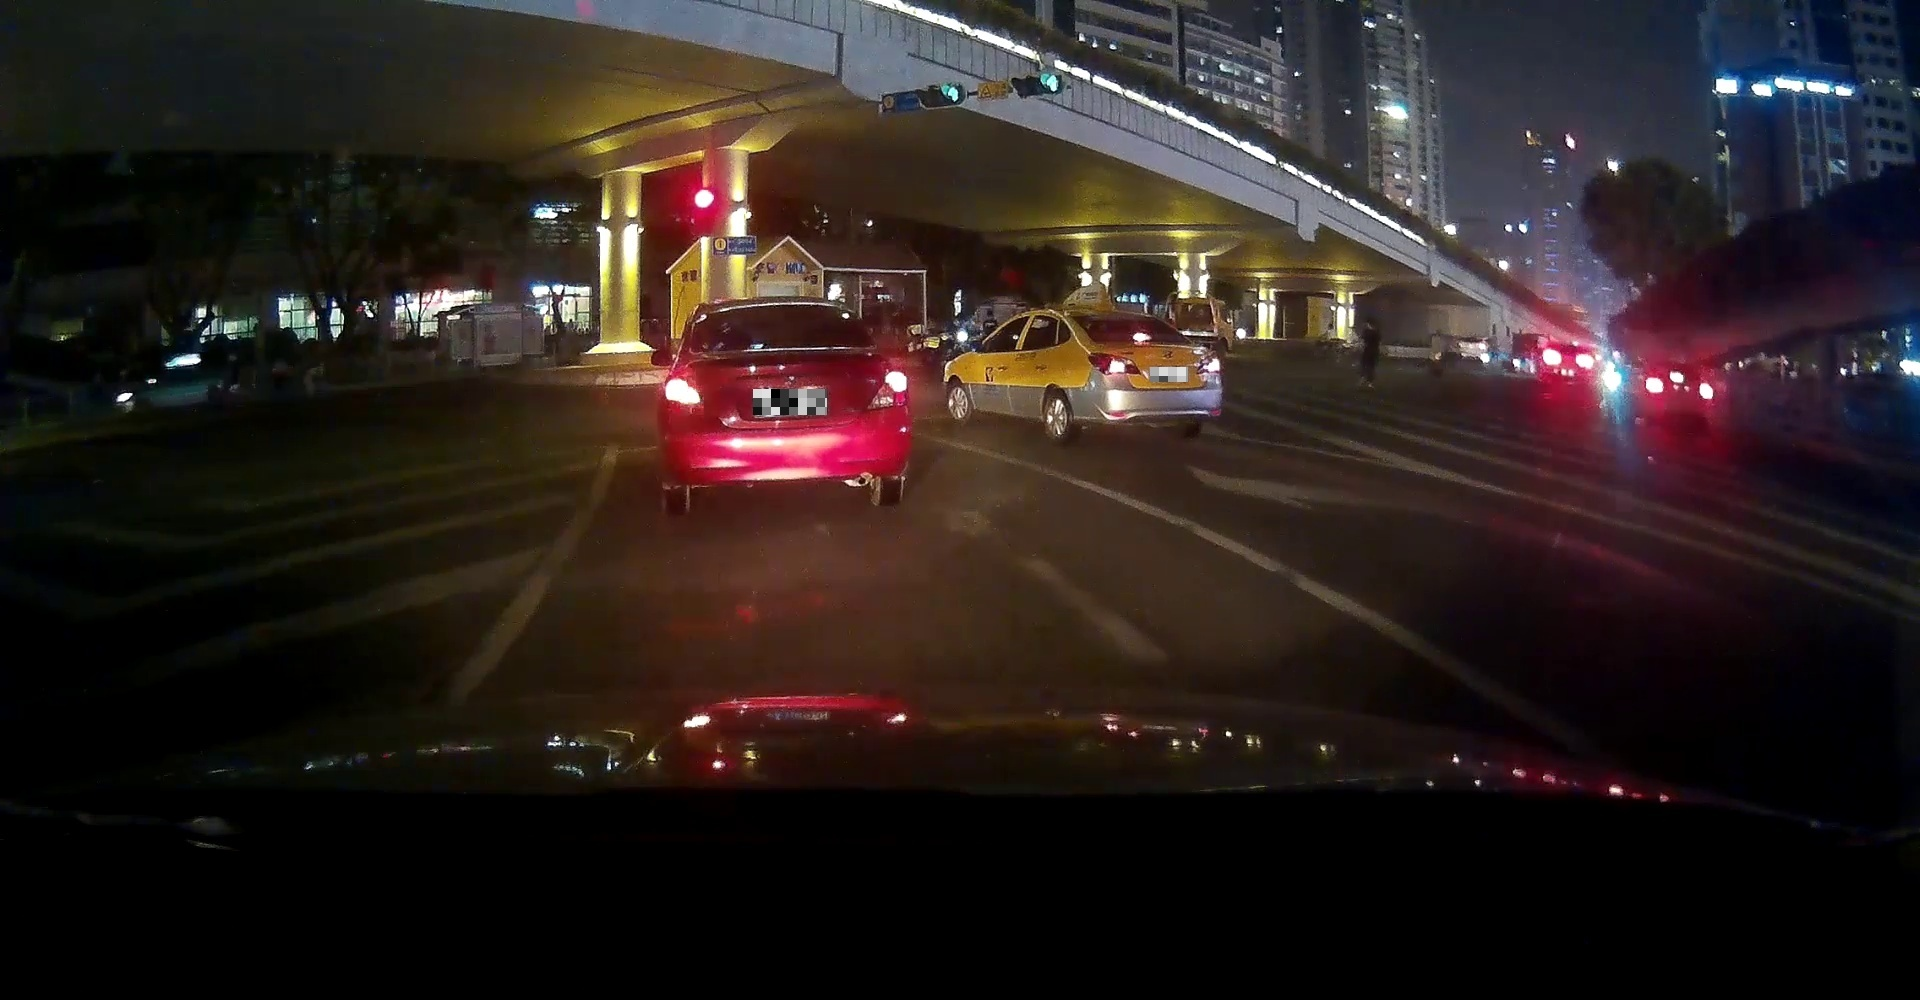L_light: (665, 376, 703, 411), (1090, 353, 1142, 376)
R_light: (863, 371, 907, 409), (1196, 352, 1220, 373)
T_light: (762, 303, 797, 313), (1131, 332, 1150, 341)
night-brake: (1069, 308, 1224, 443)
night-left: (658, 296, 912, 515)
plate_1: (753, 390, 827, 415)
plate_2: (1150, 367, 1189, 382)
